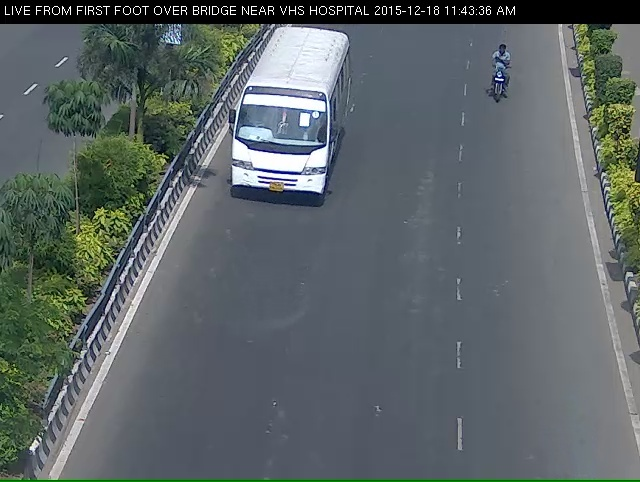Bus: (228, 37, 347, 220)
Person: (481, 45, 515, 115)
